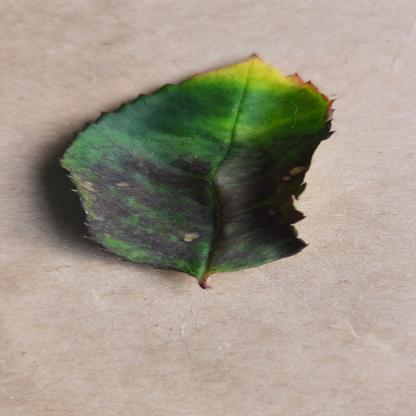powdery-mildew: (76, 52, 362, 281)
